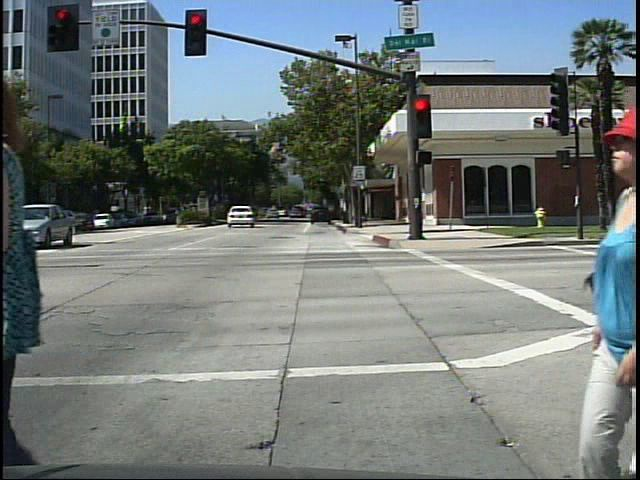person: (0, 64, 85, 467)
